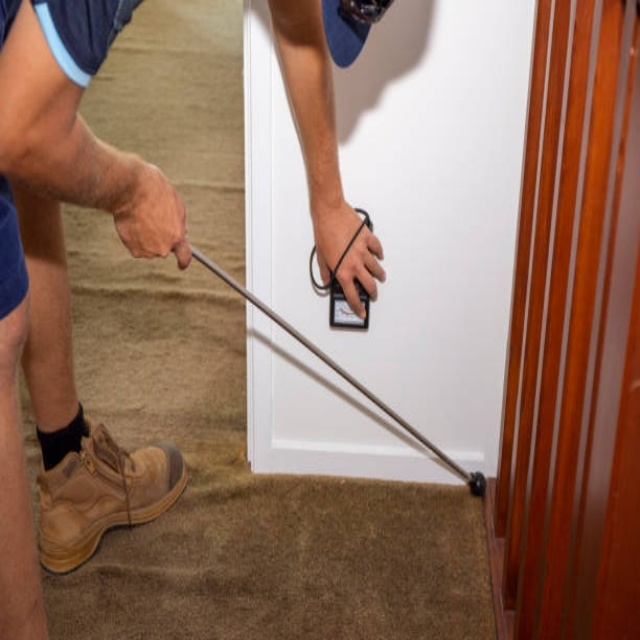Sin_guantes: (106, 144, 193, 277), (312, 201, 387, 318)
